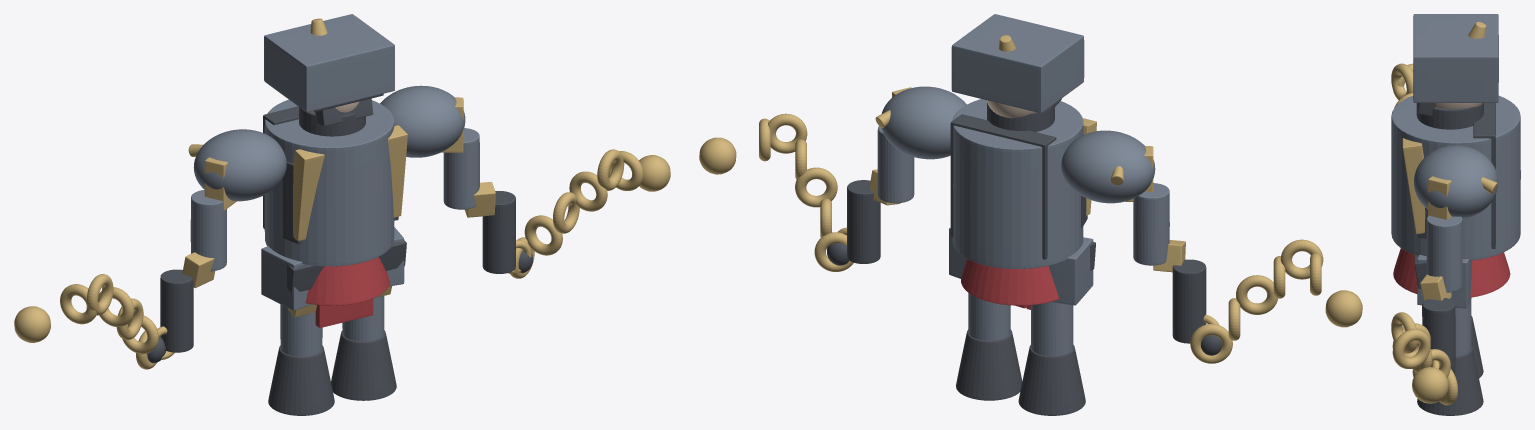
File: Character1_ChainTank_Blockout.glb
The picture shows the model from 3 angles, left to right: view 1: azimuth 30°, elevation 25°; view 2: azimuth 150°, elevation 25°; view 3: azimuth 270°, elevation 25°; orthographic projection.
Parts seen in each view (by area): view 1: Character1_ChainTank_Export; view 2: Character1_ChainTank_Export; view 3: Character1_ChainTank_Export.
Part boxes in pixels (x1,y1,x2,y2): Character1_ChainTank_Export: (14,14,670,415); Character1_ChainTank_Export: (699,14,1362,415); Character1_ChainTank_Export: (1391,14,1520,415).
Bounding box in the file's own units: 316 × 169 × 54.49.
